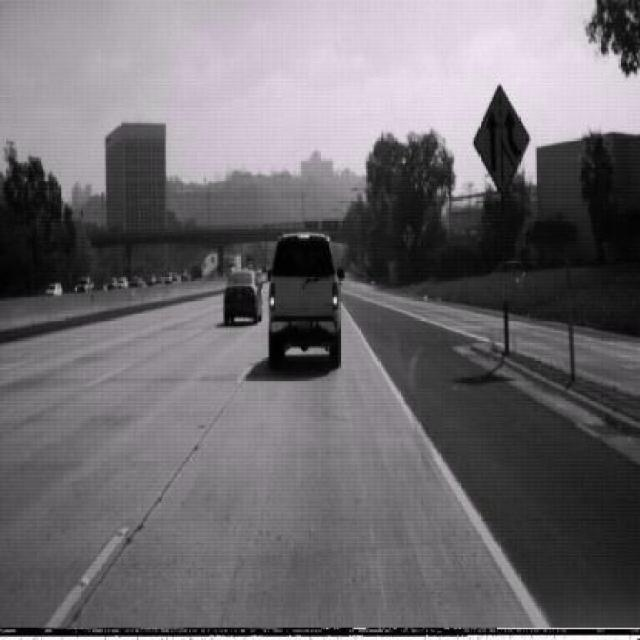addedLane: (472, 83, 531, 197)
